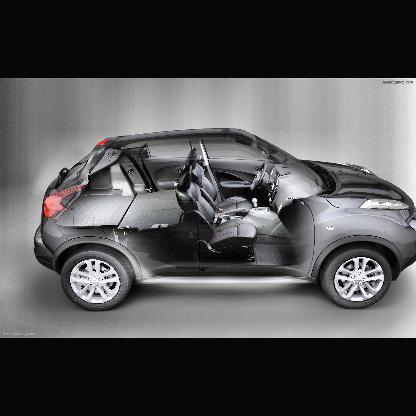Nissan Juke Hatchback 2012: (35, 128, 414, 312)
